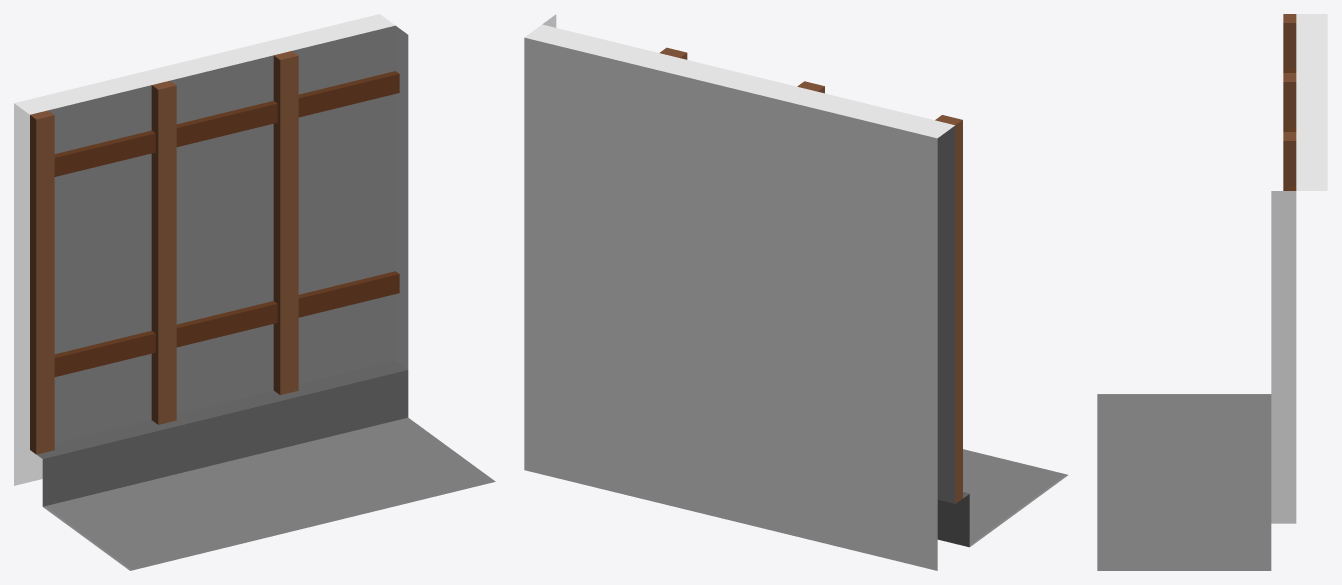
Rendered from E_Wall_Straight_Bare_Bridge.fbx.
The picture shows the model from 3 angles, left to right: view 1: azimuth 30°, elevation 25°; view 2: azimuth 150°, elevation 25°; view 3: azimuth 270°, elevation 25°; orthographic projection. The views are drawn at different scales.
Parts seen in each view (by area): view 1: E_Wall_Straight_Bare_Bridge; view 2: E_Wall_Straight_Bare_Bridge; view 3: E_Wall_Straight_Bare_Bridge.
Part boxes in pixels (box(x1,y1,x2,y2)): E_Wall_Straight_Bare_Bridge: box(14, 14, 495, 570); E_Wall_Straight_Bare_Bridge: box(524, 14, 1067, 570); E_Wall_Straight_Bare_Bridge: box(1097, 14, 1327, 570).
Size of the model in its own units: 200 by 200 by 110.
